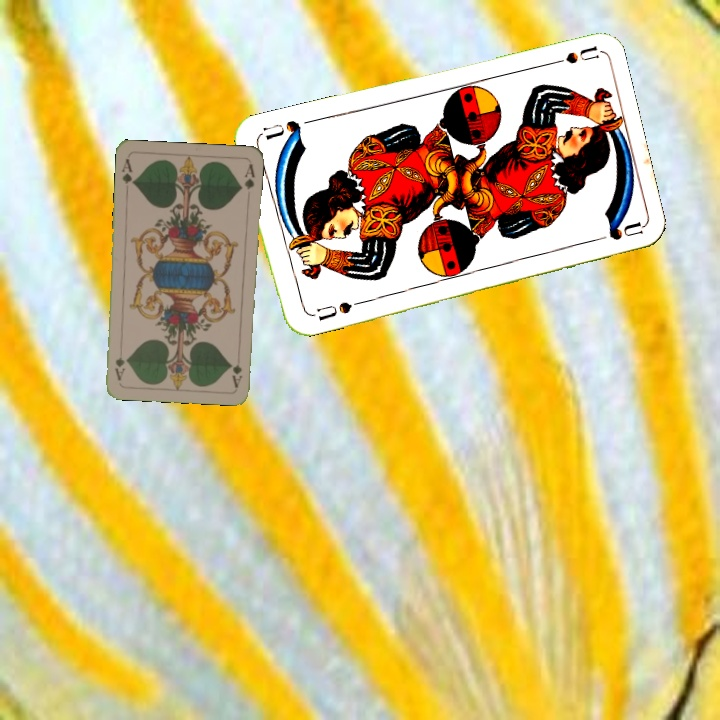GA: (118, 154, 137, 195), (228, 360, 245, 389)
SU: (540, 42, 599, 69), (313, 297, 355, 324)
